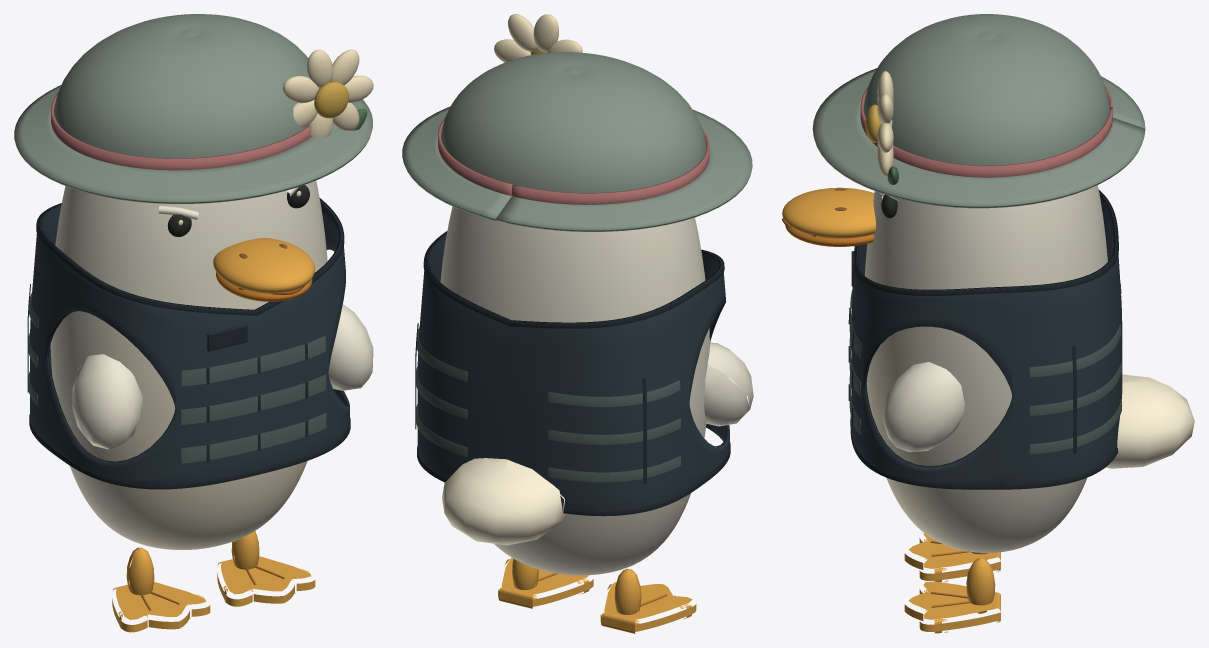
The model's file is goose-headwear-flower-character.glb.
3 views of the same model, side by side, from view 1: azimuth 30°, elevation 25°; view 2: azimuth 150°, elevation 25°; view 3: azimuth 270°, elevation 25° (orthographic). The views are drawn at different scales.
Parts seen in each view (by area): view 1: goose_headwear_flower_mesh, goose_vest_refined_mesh, goose_torso_mesh, goose_leftArm_mesh, goose_beak_mesh, goose_leftFoot_mesh, goose_rightFoot_mesh, goose_rightArm_mesh; view 2: goose_vest_refined_mesh, goose_headwear_flower_mesh, goose_torso_mesh, goose_tail_mesh, goose_leftFoot_mesh, goose_leftArm_mesh, goose_rightFoot_mesh; view 3: goose_headwear_flower_mesh, goose_vest_refined_mesh, goose_torso_mesh, goose_rightArm_mesh, goose_tail_mesh, goose_beak_mesh, goose_rightFoot_mesh, goose_leftFoot_mesh.
Boxes of the visible parts, bbox=[...] form: goose_headwear_flower_mesh: bbox=[14, 14, 373, 203]; goose_vest_refined_mesh: bbox=[27, 198, 350, 489]; goose_torso_mesh: bbox=[50, 180, 327, 549]; goose_leftArm_mesh: bbox=[72, 354, 142, 449]; goose_beak_mesh: bbox=[213, 238, 314, 301]; goose_leftFoot_mesh: bbox=[112, 547, 210, 632]; goose_rightFoot_mesh: bbox=[217, 531, 315, 606]; goose_rightArm_mesh: bbox=[328, 304, 373, 390]; goose_vest_refined_mesh: bbox=[415, 231, 730, 516]; goose_headwear_flower_mesh: bbox=[402, 14, 752, 231]; goose_torso_mesh: bbox=[440, 206, 709, 575]; goose_tail_mesh: bbox=[442, 458, 568, 545]; goose_leftFoot_mesh: bbox=[600, 568, 696, 633]; goose_leftArm_mesh: bbox=[704, 342, 753, 426]; goose_rightFoot_mesh: bbox=[498, 557, 593, 608]; goose_headwear_flower_mesh: bbox=[812, 14, 1145, 208]; goose_vest_refined_mesh: bbox=[848, 189, 1122, 489]; goose_torso_mesh: bbox=[864, 185, 1107, 552]; goose_rightArm_mesh: bbox=[882, 362, 964, 451]; goose_tail_mesh: bbox=[1105, 374, 1194, 468]; goose_beak_mesh: bbox=[782, 187, 875, 246]; goose_rightFoot_mesh: bbox=[904, 558, 1000, 633]; goose_leftFoot_mesh: bbox=[904, 533, 1000, 582].
Bounding box in the file's own units: 1.21 × 2.03 × 1.37.
